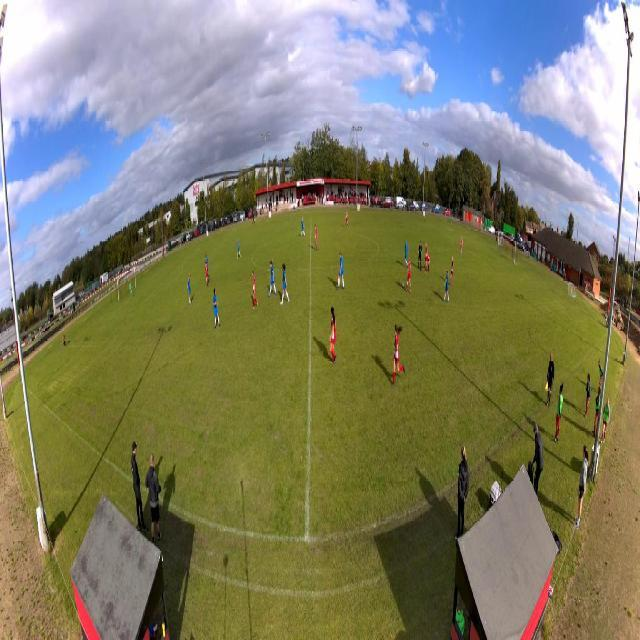ball: (402, 282, 404, 287)
player: (391, 323, 405, 389), (329, 307, 337, 365), (280, 263, 290, 305), (336, 249, 345, 291), (212, 289, 221, 329), (268, 260, 277, 297), (251, 270, 258, 310), (443, 268, 450, 306), (406, 257, 412, 295), (187, 272, 192, 306), (449, 255, 454, 286), (418, 240, 423, 270), (314, 224, 319, 251), (423, 243, 427, 274), (404, 239, 408, 268), (237, 238, 242, 260), (205, 262, 209, 288), (459, 236, 463, 258), (301, 217, 305, 238), (129, 281, 133, 299), (345, 211, 349, 228), (205, 255, 209, 272), (427, 254, 430, 270)
